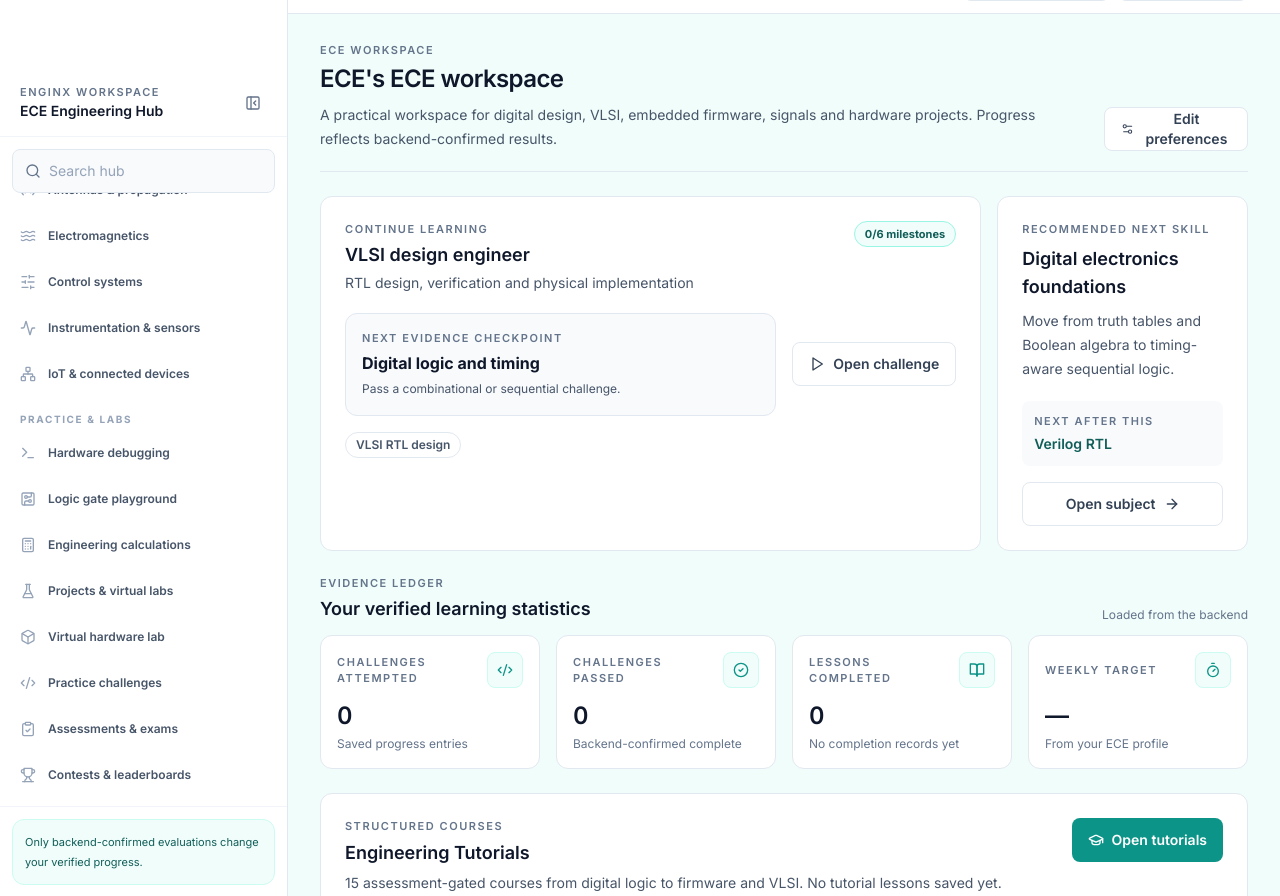
Test: ECE Engineering Hub › changes modeled outputs in the half-adder playground
(page scrolled)
Click the button "Logic gate playground": (144, 499) [8, 477, 279, 521]
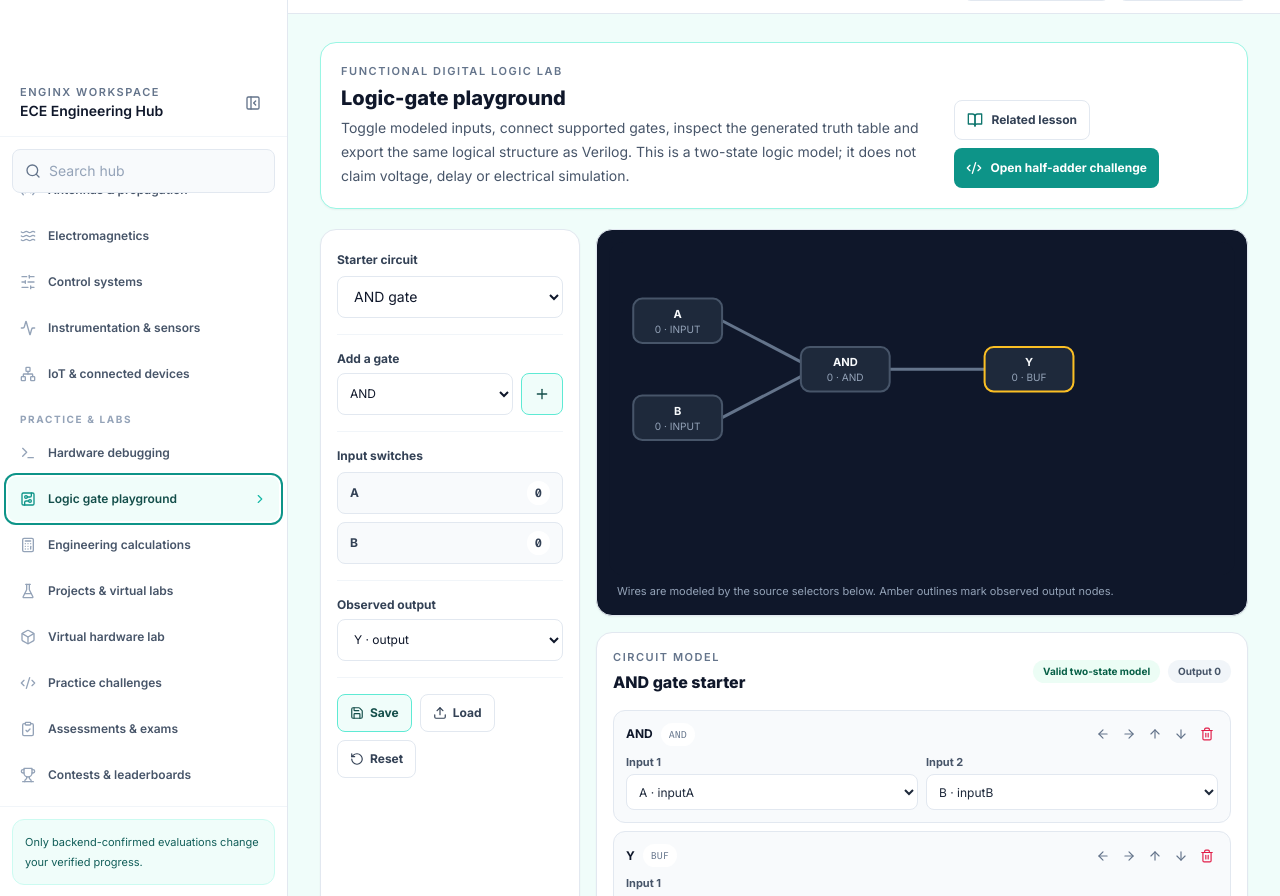
Select "Half adder" in the dropdown labelled "Starter circuit": (450, 296) [337, 276, 563, 318]
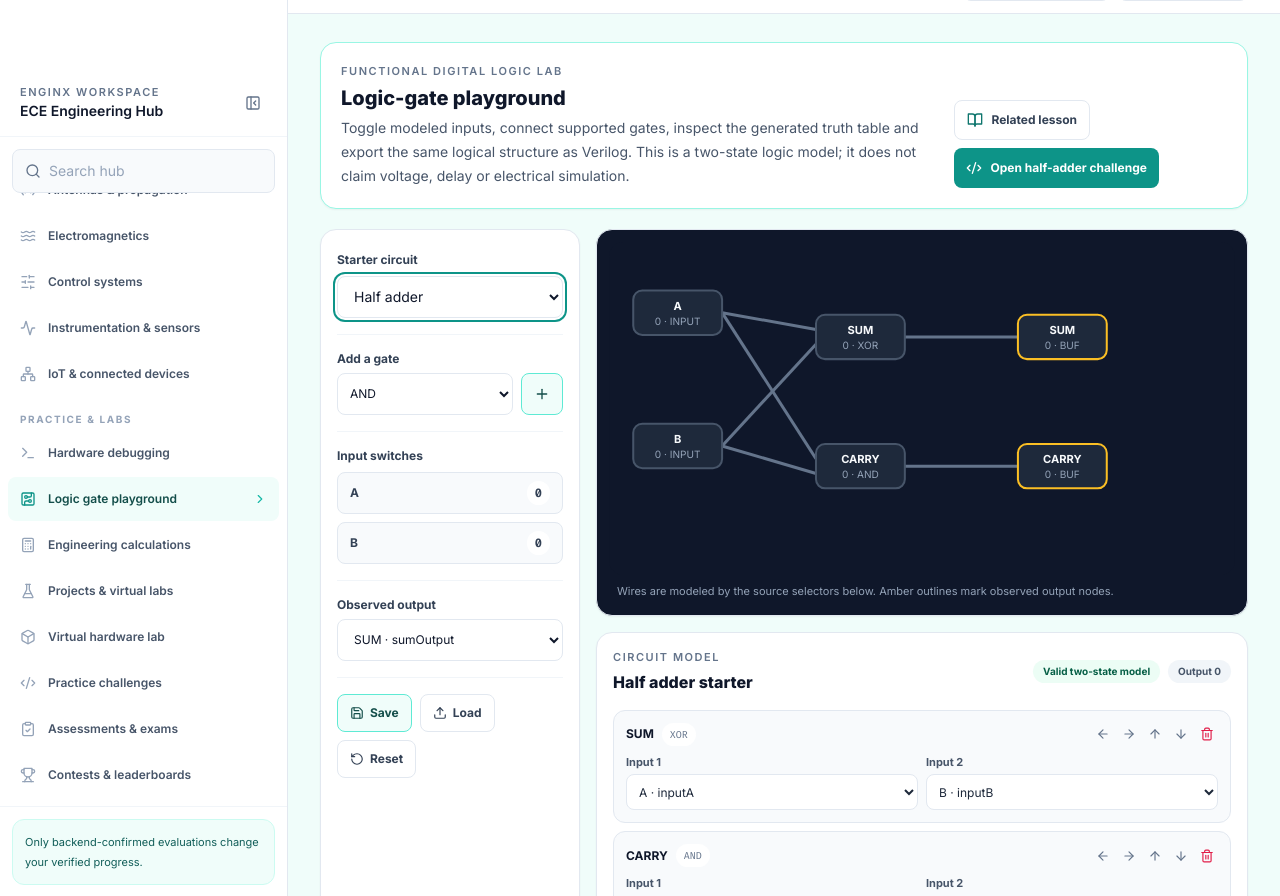
Click the button named "toggle input a": (450, 492) [337, 472, 563, 514]
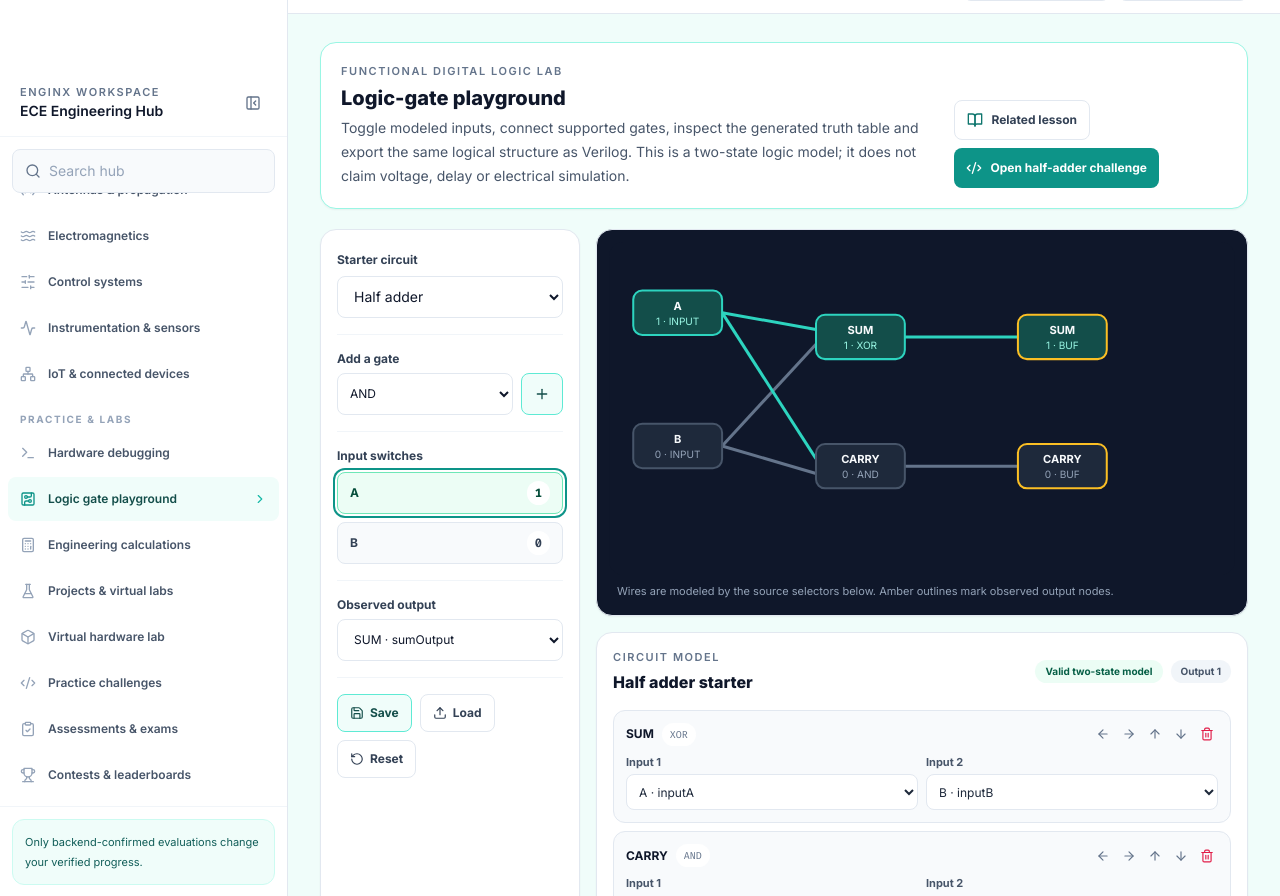
Click the button named "toggle input b": (450, 542) [337, 522, 563, 564]
(page scrolled)
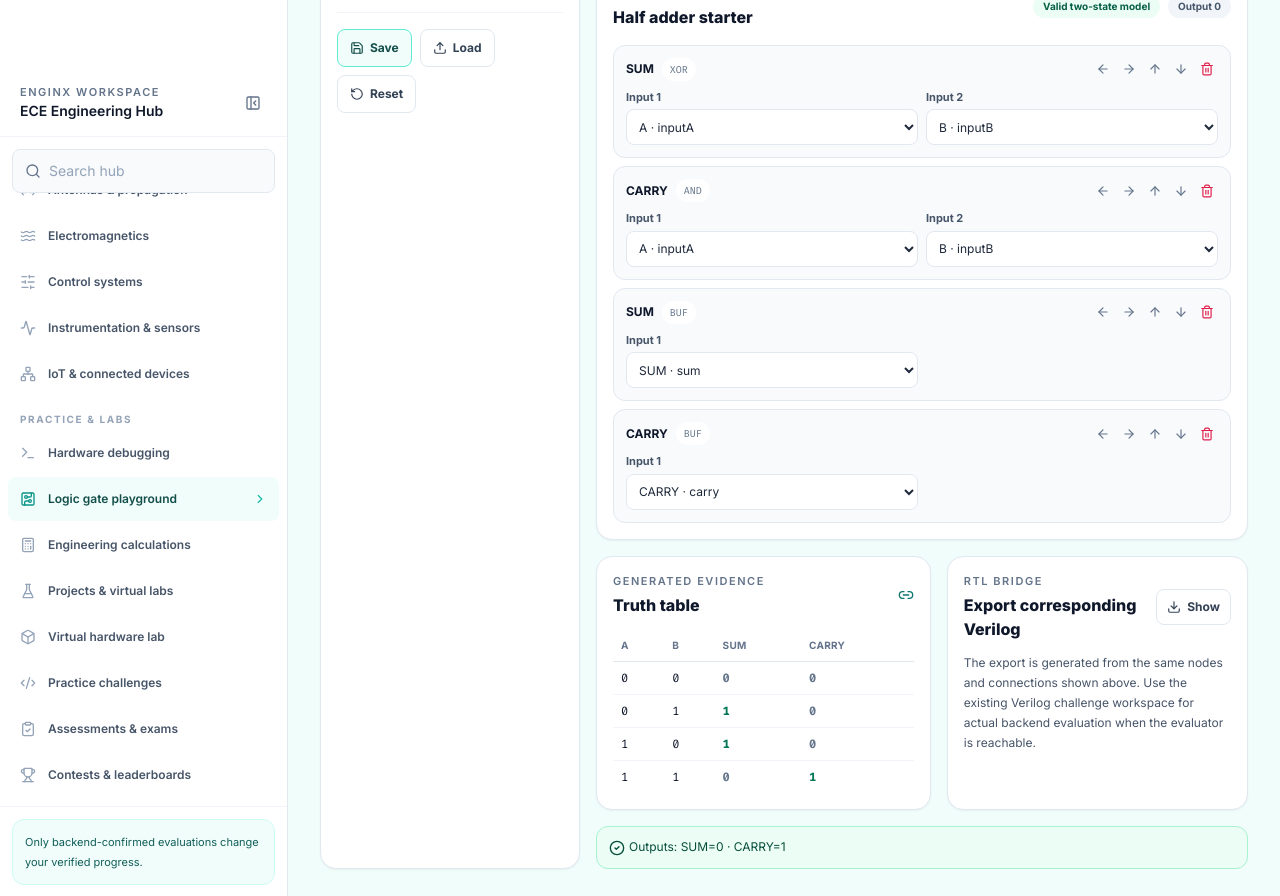
Expected: the text "Outputs: SUM=0 · CARRY=1" is shown, [596, 826, 1248, 869]
